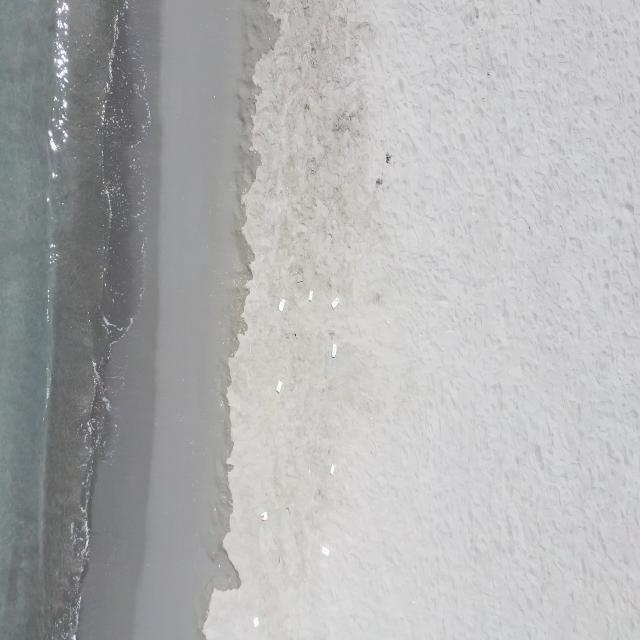retort-pouch: (320, 544, 331, 558), (331, 295, 340, 311), (278, 297, 286, 314), (260, 510, 270, 523), (252, 614, 260, 630), (330, 342, 338, 358), (276, 378, 283, 396), (329, 464, 336, 476), (308, 289, 314, 302)
